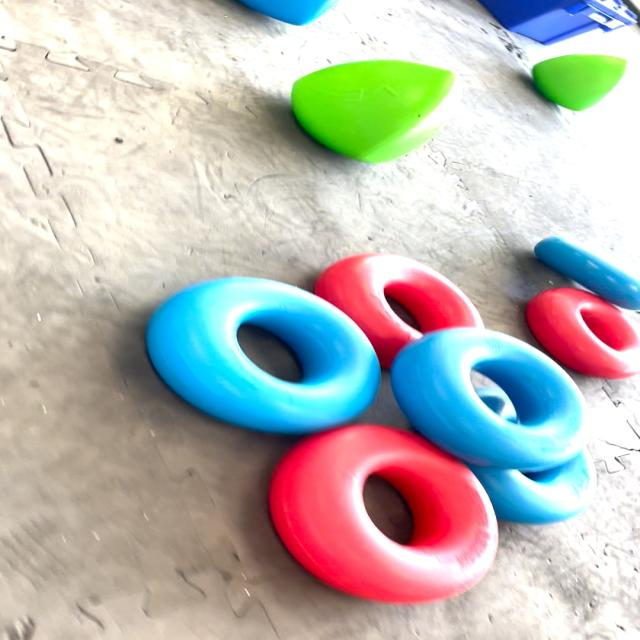Blue-Ring: (147, 276, 380, 434), (391, 328, 587, 470), (467, 451, 596, 524), (533, 236, 639, 310), (338, 401, 340, 403)
Red-Ring: (269, 425, 498, 604), (316, 252, 484, 368), (527, 288, 639, 379)
